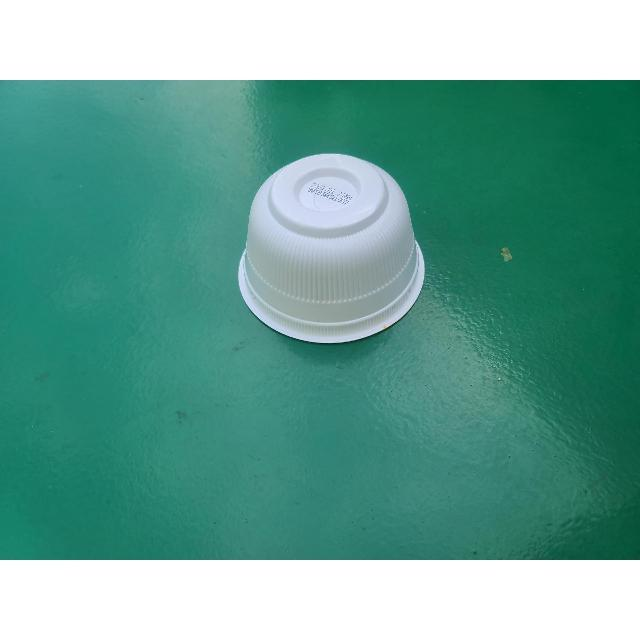Plastico descartable: (237, 155, 427, 346)
